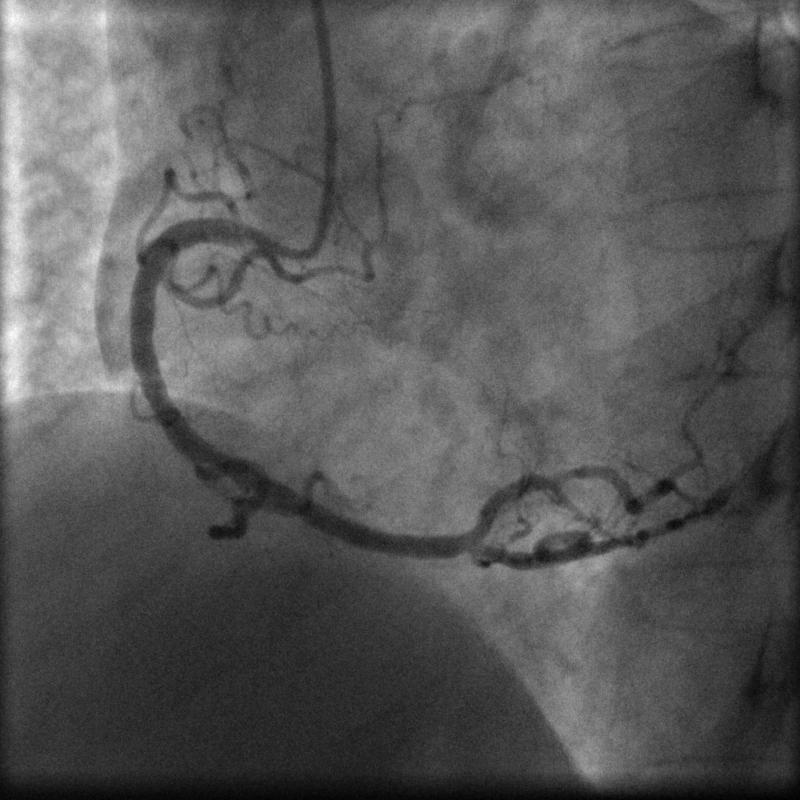Stenosis: (529, 463, 574, 490)
